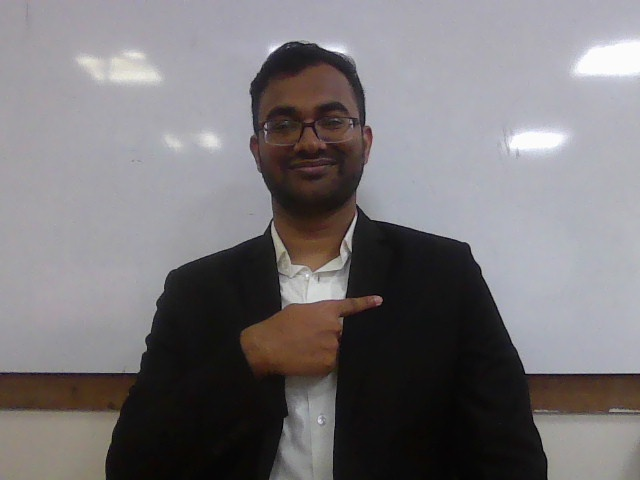Ami: (244, 293, 384, 380)
